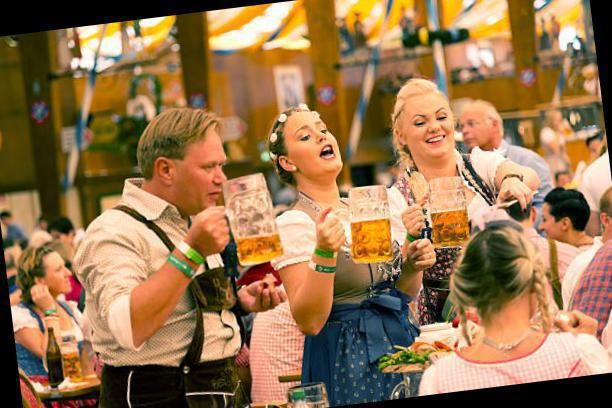Drunk: (185, 130, 226, 211), (285, 115, 341, 174), (405, 95, 455, 156)
